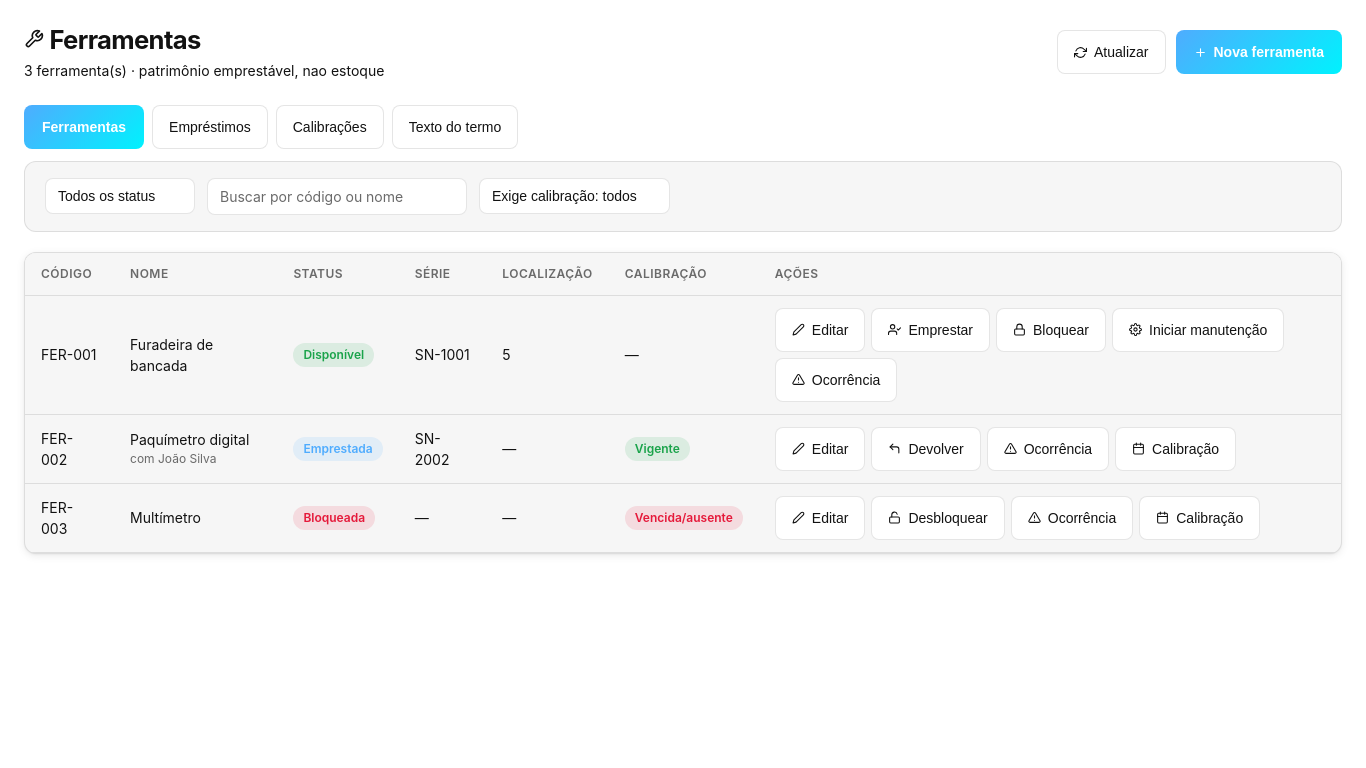
Test case: FerramentasAlmoxarifado — emprestar (Etapa 180, termo de responsabilidade) › o modal traz o colaborador do cadastro (nome e setor, sem a matrícula) e o texto VIGENTE com o selo "Texto provisório"
Click the button "Emprestar": [931, 330] box 871,308 -> 990,352
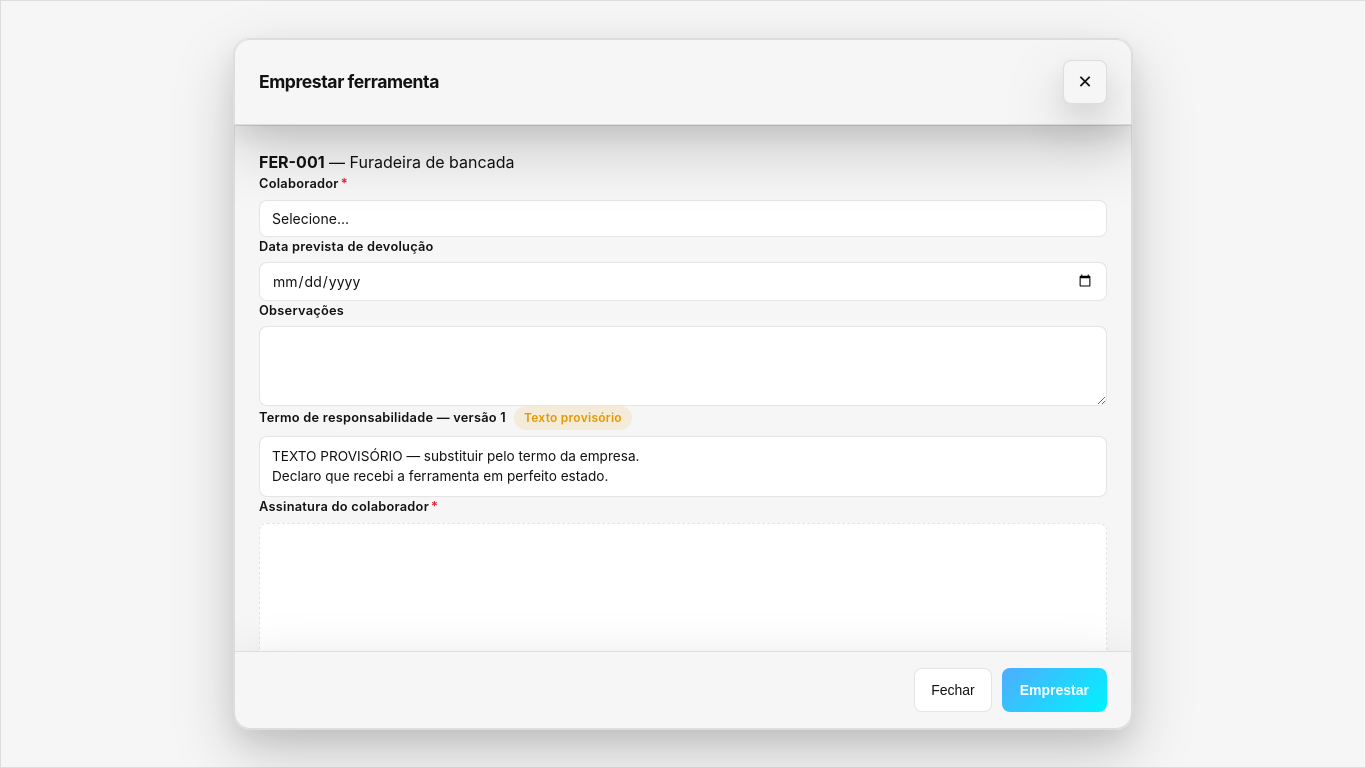
Expected: the element with class "almox-modal" shows "Termo de responsabilidade — versão 1", 233,38 -> 1133,730
Expected: the text with class "almox-termo-provisorio" reads "Texto provisório", 524,410 -> 622,425
Expected: the drawing is shown, 259,523 -> 1107,703
